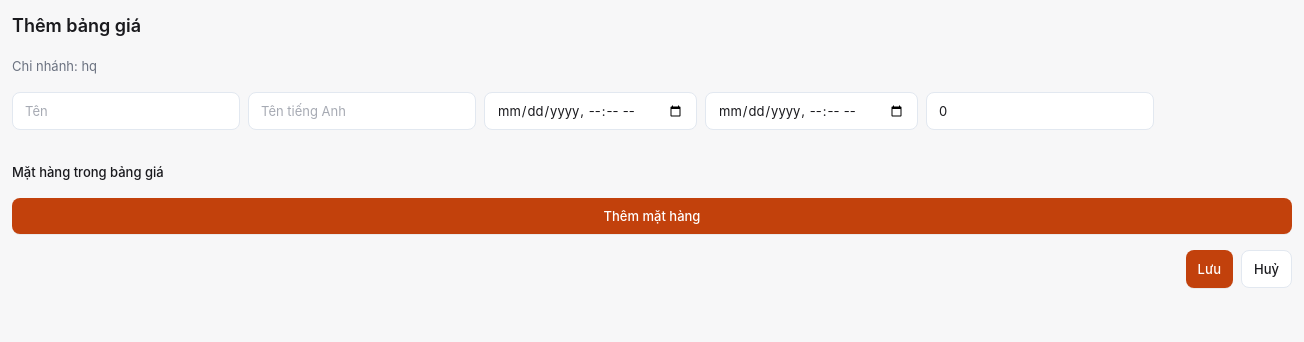
PriceListEditor › warns when the window ends before it starts
The width and height of the screenshot is (1304, 342).
Type "Giờ vàng" into the field with placeholder "Tên" at (126, 111), box [12,92,240,130]
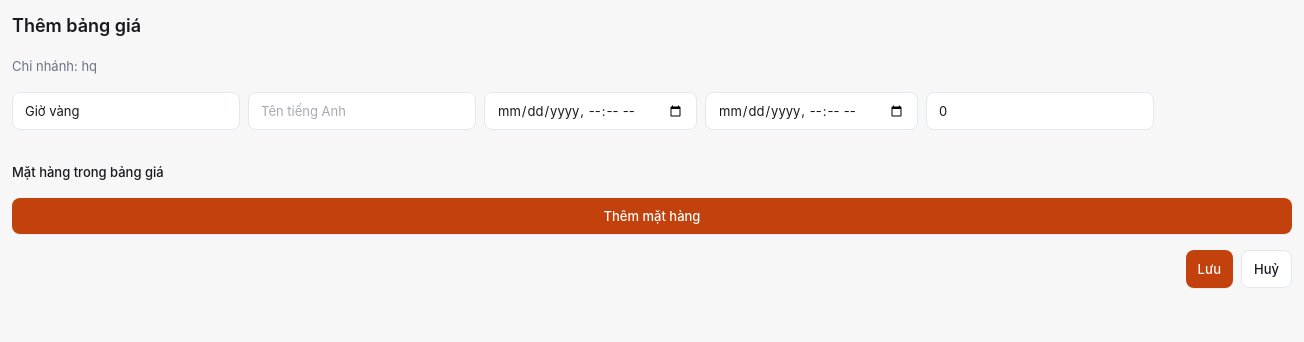
Type "2026-10-22T17:00" into the field with placeholder "Bắt đầu" at (590, 111), box [484,92,697,130]
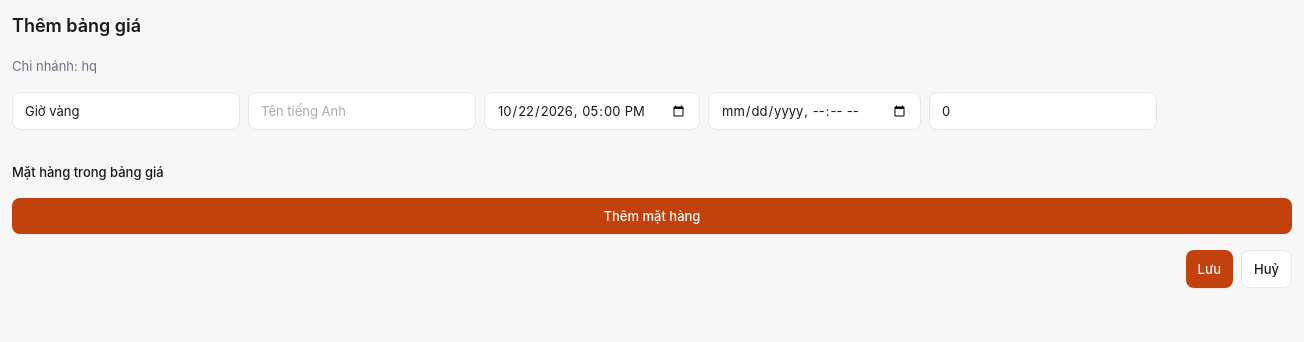
Type "2026-10-22T14:00" into the field with placeholder "Kết thúc" at (814, 111), box [708,92,921,130]
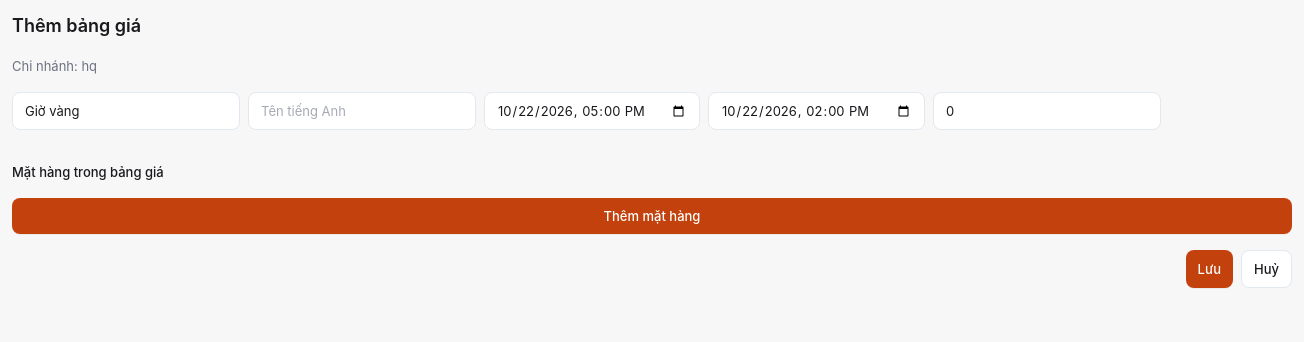
Submit the form, box [12,92,1292,288]
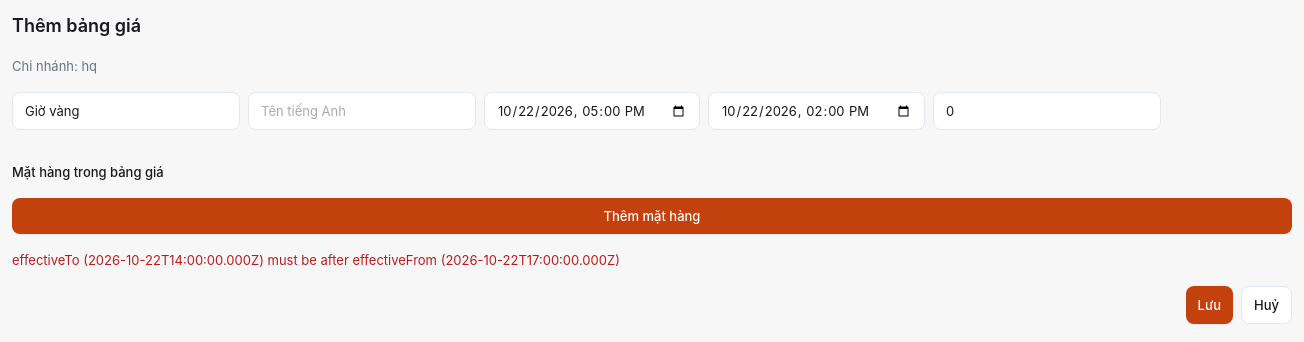
Check: the message shows "after", box [12,252,620,268]
